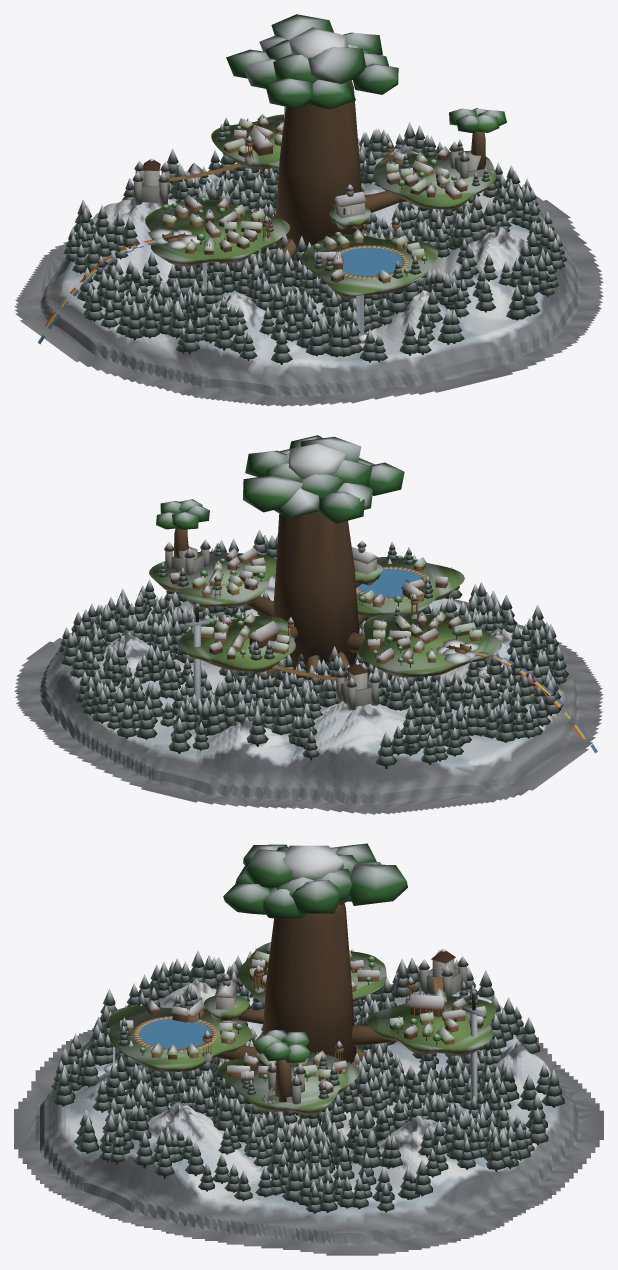
3 renders of one model, top to bottom at view 1: azimuth 30°, elevation 25°; view 2: azimuth 150°, elevation 25°; view 3: azimuth 270°, elevation 25°, orthographic. The views are drawn at different scales.
Parts seen in each view (by area): view 1: BASE, VILLE_3, VILLE_2; view 2: BASE, VILLE_3, VILLE_2, VILLE_4; view 3: BASE, VILLE_3, VILLE_2, VILLE_4.
Part boxes in pixels (x1=…): BASE: x1=14, y1=14, x2=603, y2=406; VILLE_3: x1=223, y1=114, x2=468, y2=199; VILLE_2: x1=322, y1=217, x2=424, y2=283; BASE: x1=14, y1=435, x2=603, y2=814; VILLE_3: x1=170, y1=546, x2=294, y2=659; VILLE_2: x1=356, y1=557, x2=448, y2=607; VILLE_4: x1=248, y1=617, x2=280, y2=648; BASE: x1=14, y1=843, x2=603, y2=1255; VILLE_3: x1=226, y1=976, x2=486, y2=1093; VILLE_2: x1=120, y1=1000, x2=236, y2=1062; VILLE_4: x1=409, y1=991, x2=445, y2=1016.
Bounding box in the file's own units: 77.22 × 34.88 × 68.
